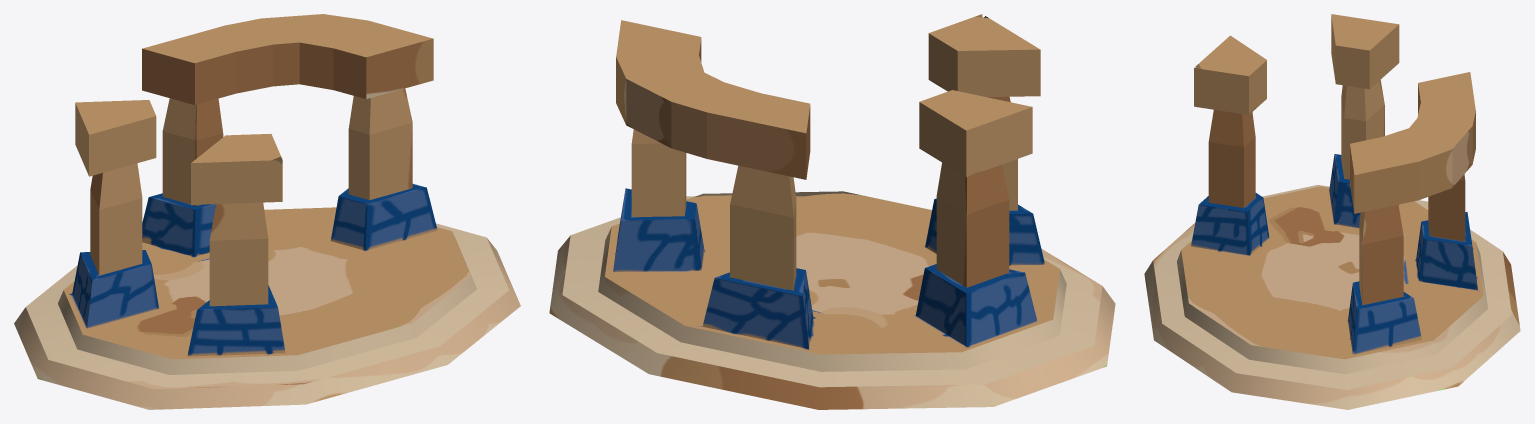
The model's file is win scenary.fbx.
The picture shows the model from 3 angles, left to right: view 1: azimuth 30°, elevation 25°; view 2: azimuth 150°, elevation 25°; view 3: azimuth 270°, elevation 25°; orthographic projection. The views are drawn at different scales.
Visible parts, largest first — view 1: wing; view 2: wing; view 3: wing.
Boxes of the visible parts, bbox=[...] form: wing: bbox=[14, 14, 520, 409]; wing: bbox=[549, 14, 1115, 409]; wing: bbox=[1144, 14, 1520, 409].
Size of the model in its own units: 357 by 161 by 264.
